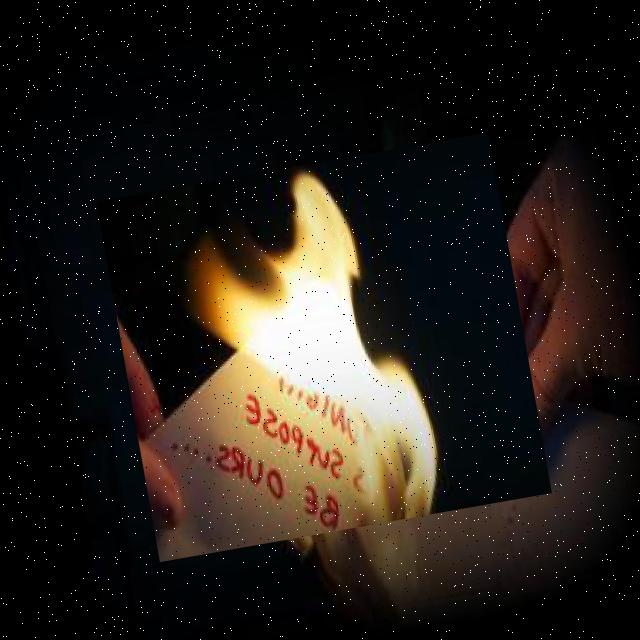fire: (96, 132, 552, 562)
